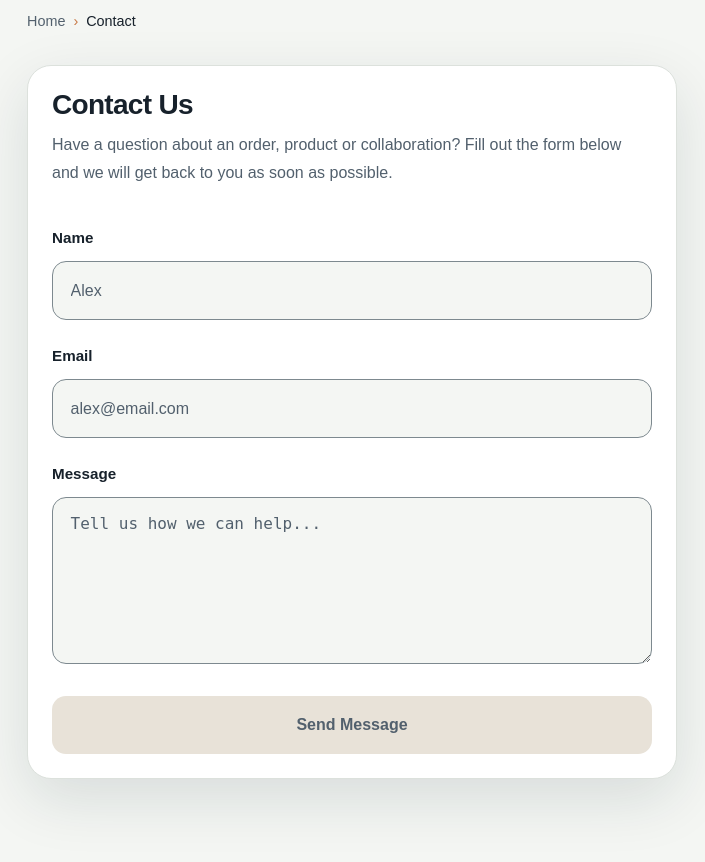
Contact › shows validation errors for invalid contact details
The width and height of the screenshot is (705, 862).
Type "Al" into the field labelled "Name" at (352, 290), box [52,260,652,320]
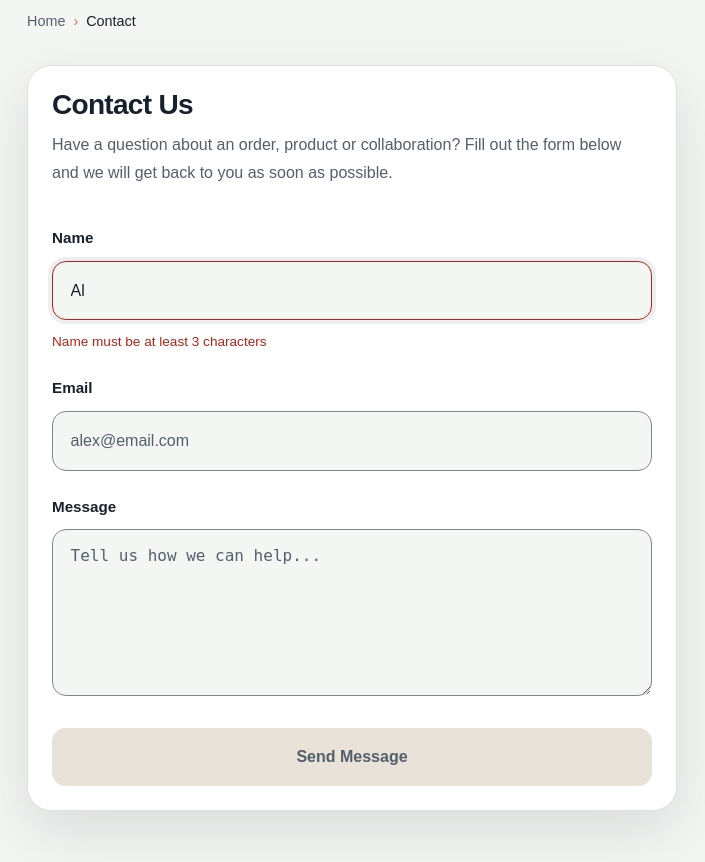
Type "invalid" into the field labelled "Email" at (352, 441), box [52,411,652,471]
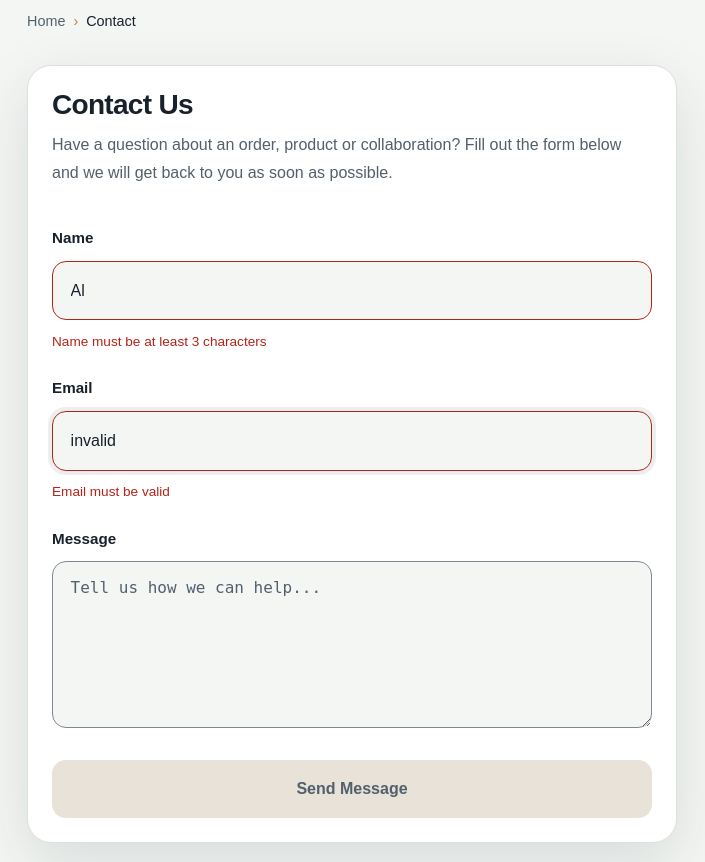
Type "Too short" into the text box labelled "Message" at (352, 645), box [52,561,652,728]
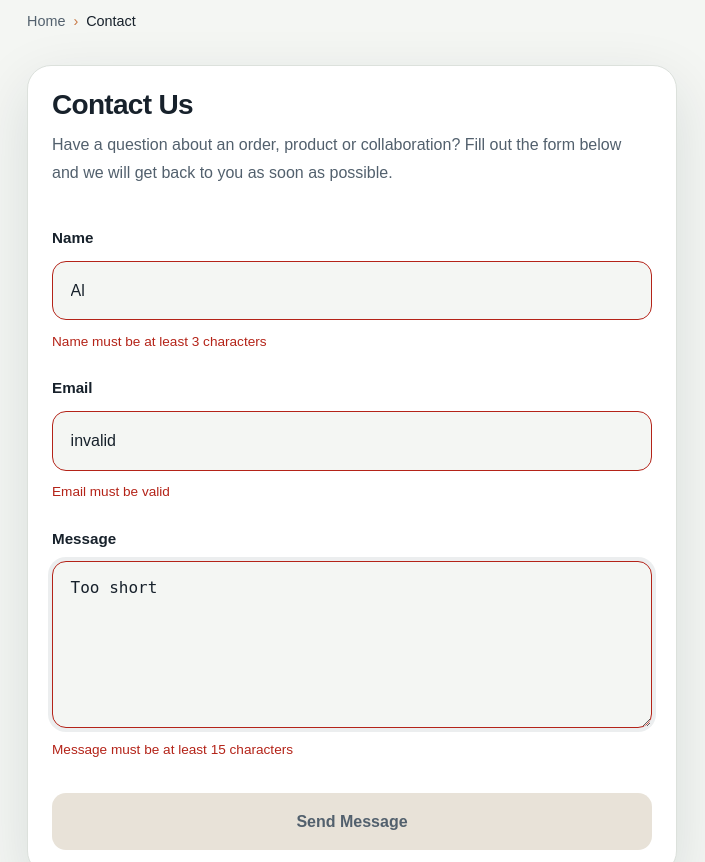
Expected: the text "Name must be at least 3 characters" is shown, [52,334,267,348]
Expected: the text "Email must be valid" is shown, [52,484,170,499]
Expected: the text "Message must be at least 15 characters" is shown, [52,742,293,757]
